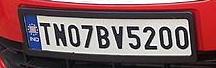0: (157, 27, 174, 51), (174, 26, 190, 50), (66, 24, 82, 47)
2: (142, 26, 159, 50)
5: (125, 25, 142, 49)
7: (80, 24, 95, 49)
B: (95, 25, 111, 48)
N: (51, 23, 68, 47)
T: (38, 22, 53, 46)
V: (110, 25, 125, 49)
